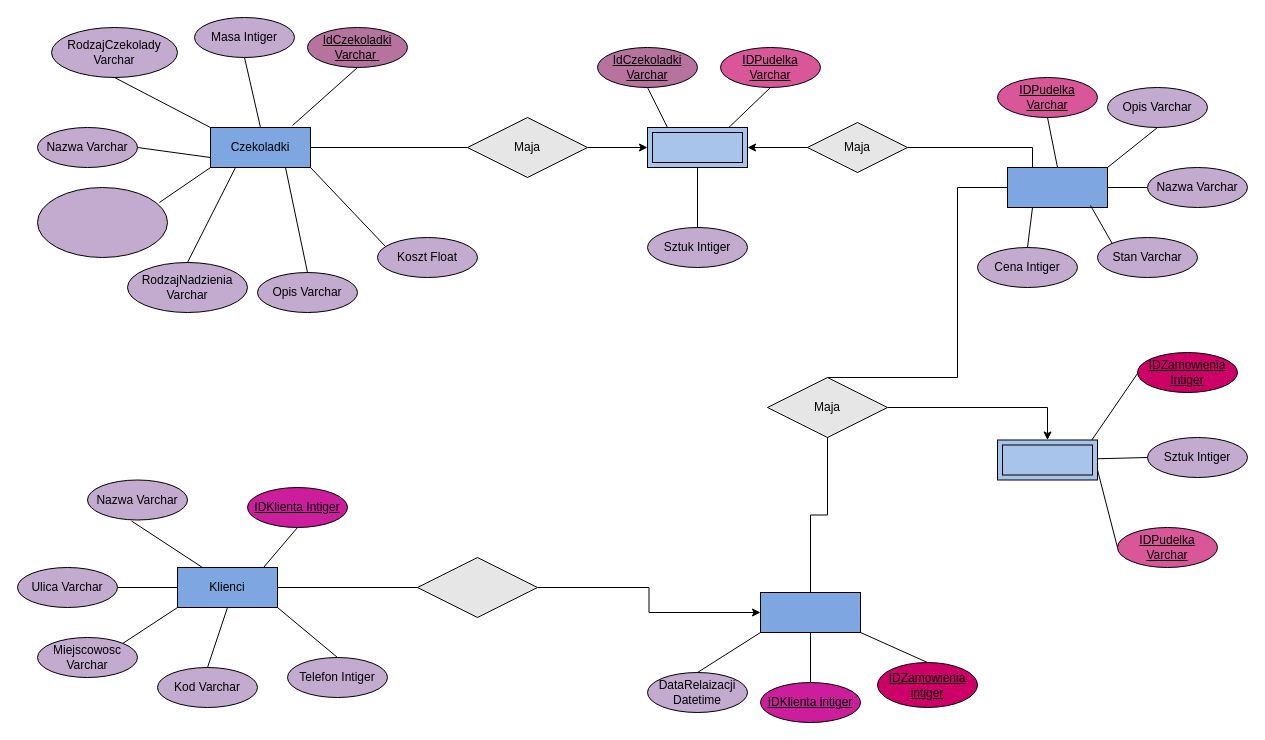
The diagram is 1265 pixels wide and 740 high, and some of its shapes have lost their labels. Here are the shapes that lost their labels. From the top down, the box of each, then its label:
(646, 126, 748, 168): Zawartość
(1006, 166, 1108, 208): Pudełka
(36, 186, 168, 258): RodzajOrzechów Varchar
(996, 439, 1098, 480): artykuły
(416, 556, 538, 618): Skladaja
(760, 592, 860, 632): Zamówienia
